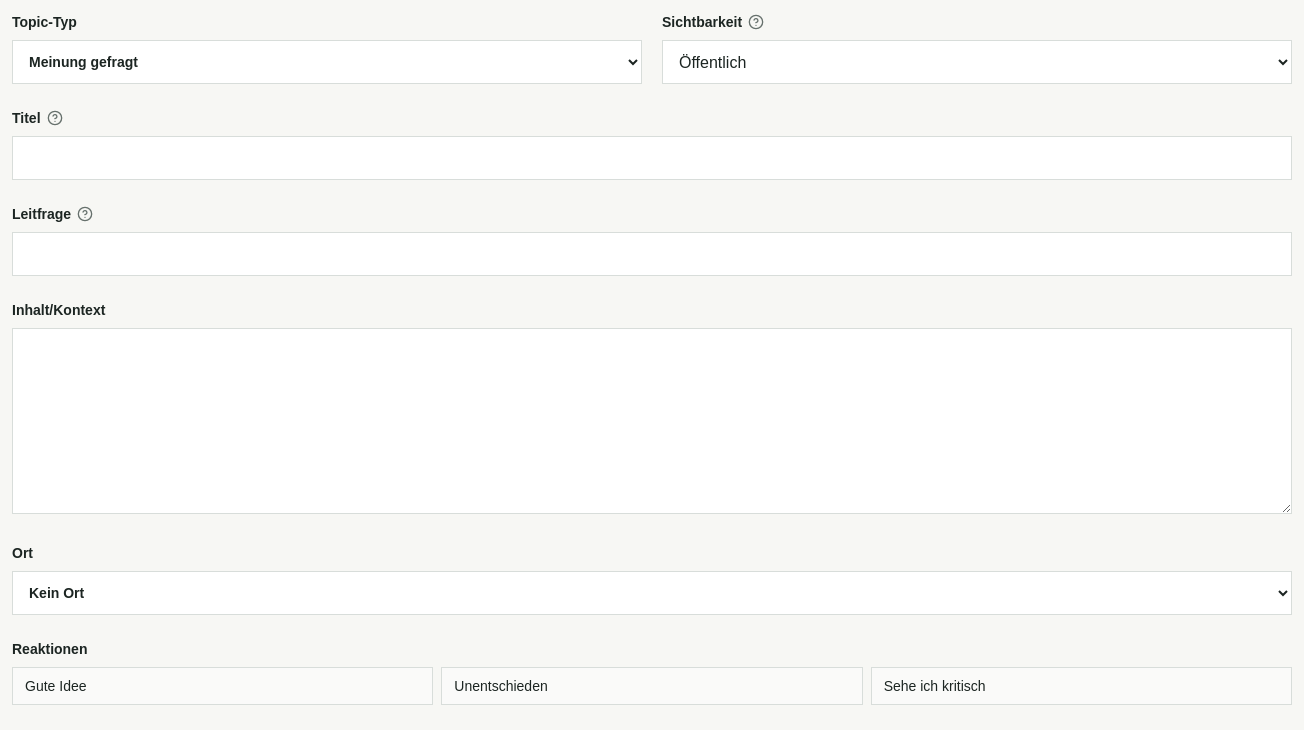
Test: TopicForm › shows information reactions without participation fields
Select "Information" in the dropdown labelled "Topic-Typ" at (327, 62), box [12, 40, 642, 84]
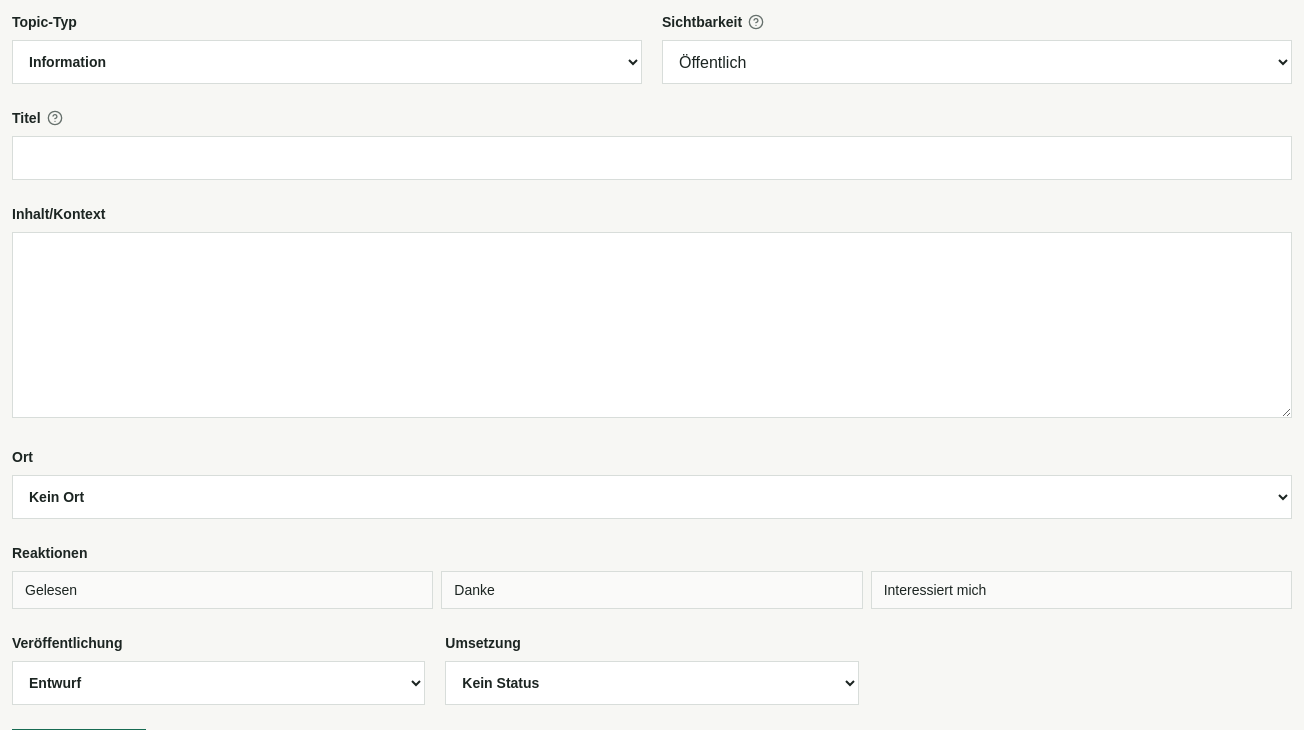
Expected: the label labelled "Leitfrage" is gone
Expected: the text "Gelesen" is shown, [12, 571, 433, 609]
Expected: the text "Danke" is shown, [441, 571, 863, 609]
